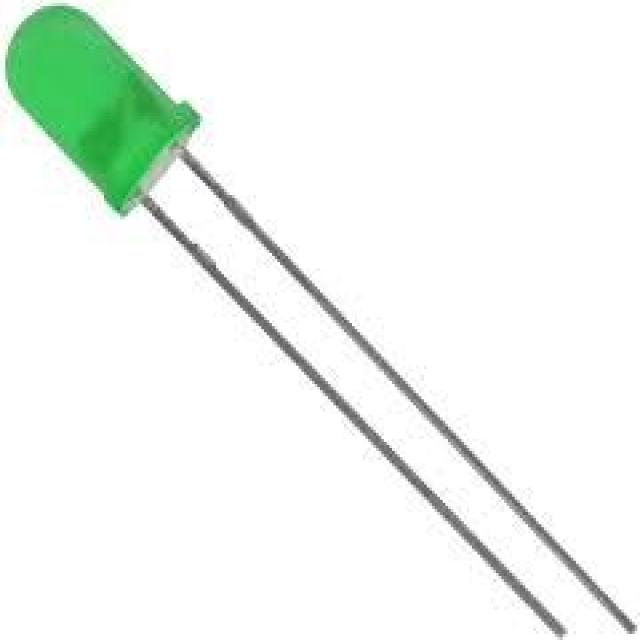Led: (6, 7, 535, 602)
